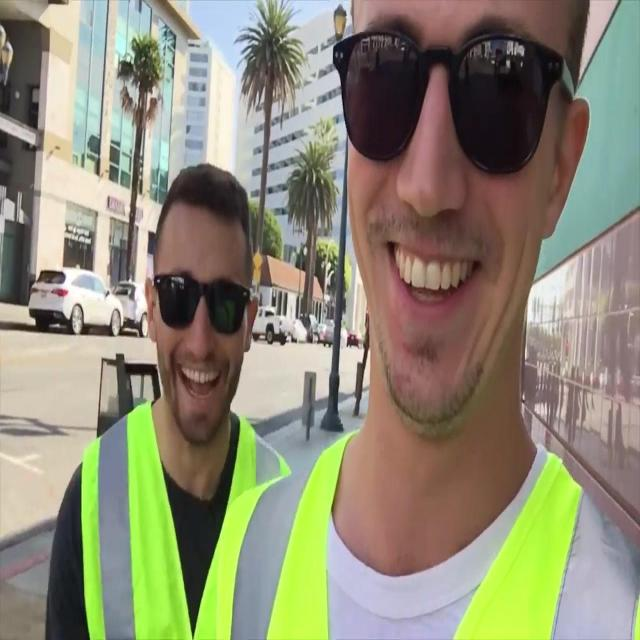Reflective-Jacket: (282, 419, 617, 640), (75, 402, 291, 640)
